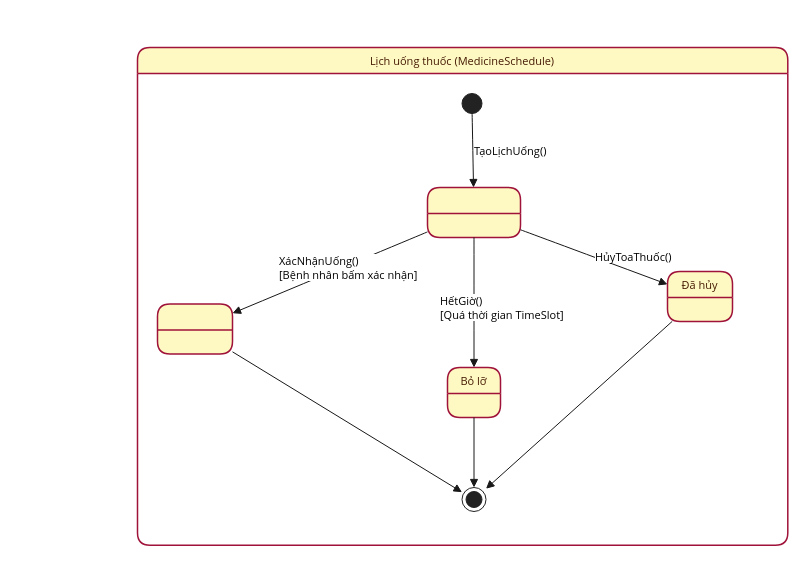
The diagram is 806 pixels wide and 563 high, and some of its shapes have lost their labels. Each missing label, with the box of its shape:
Chưa uống: (426, 186, 521, 238)
Đã uống: (156, 303, 233, 354)
